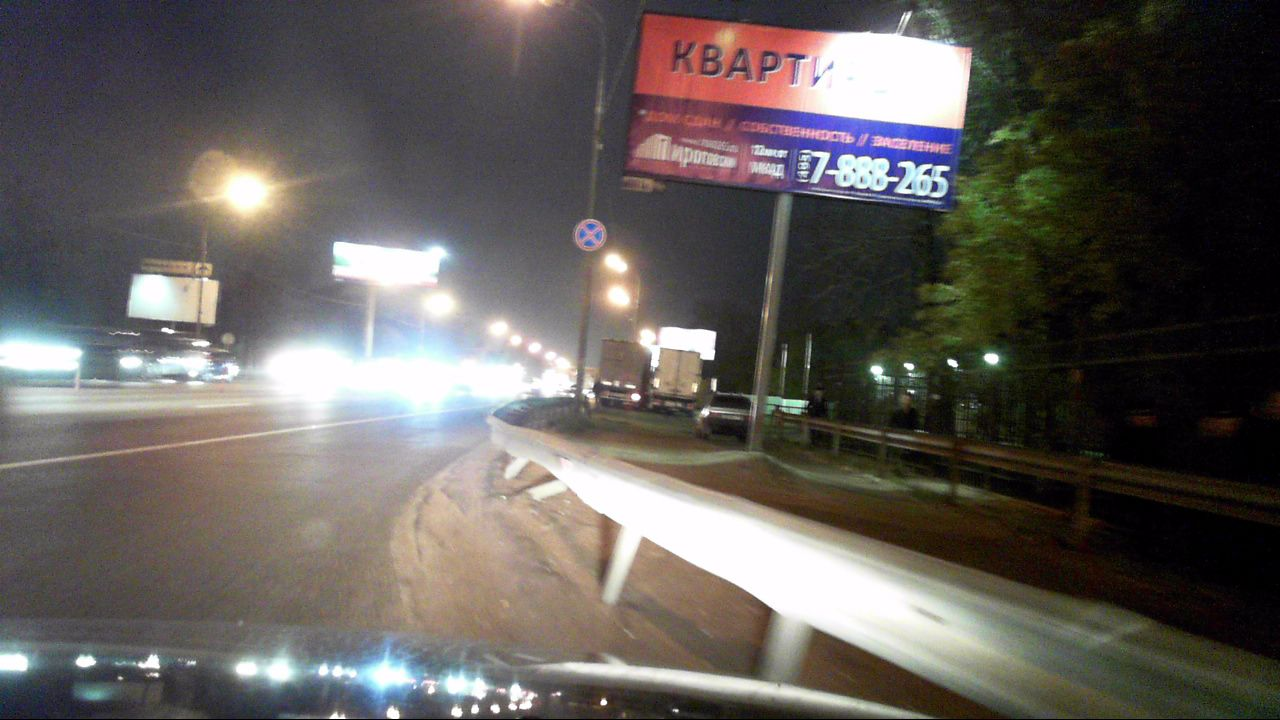No Parking: (572, 218, 604, 251)
